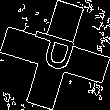P_E: (26, 30, 84, 80)
